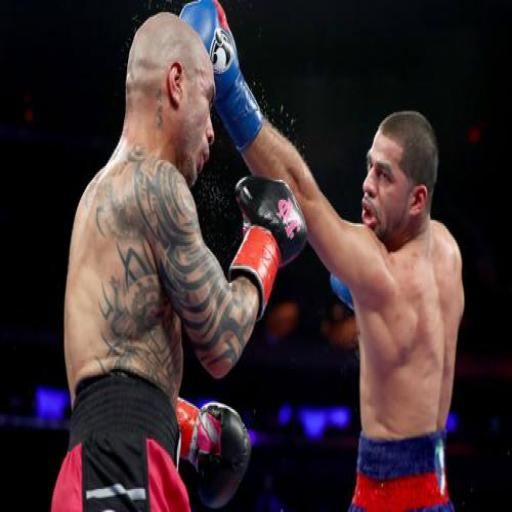boxing: (176, 0, 467, 510), (47, 0, 308, 510)
